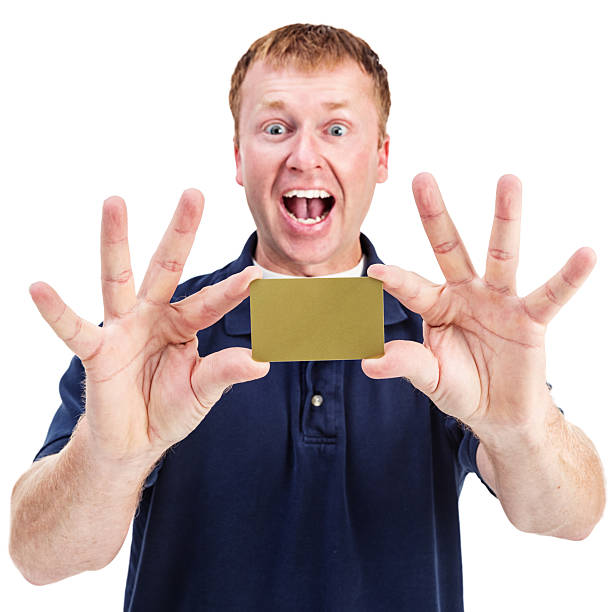tarjeta: (248, 276, 387, 363)
